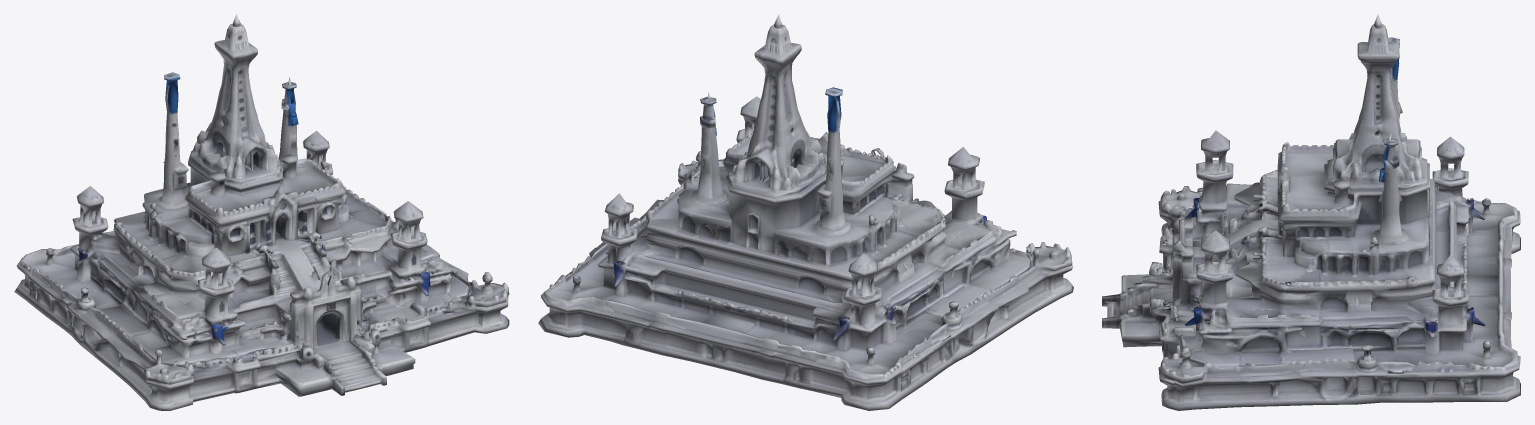
The model's file is citadel.glb.
3 views of the same model, side by side, from view 1: azimuth 30°, elevation 25°; view 2: azimuth 150°, elevation 25°; view 3: azimuth 270°, elevation 25° (orthographic). The views are drawn at different scales.
Visible parts, largest first — view 1: tripo_node_39ec2dd4-5cfa-4ec2-801e-8d99c4cdc907; view 2: tripo_node_39ec2dd4-5cfa-4ec2-801e-8d99c4cdc907; view 3: tripo_node_39ec2dd4-5cfa-4ec2-801e-8d99c4cdc907.
Boxes of the visible parts, x1,y1,x2,y2 form: tripo_node_39ec2dd4-5cfa-4ec2-801e-8d99c4cdc907: [14, 14, 509, 410]; tripo_node_39ec2dd4-5cfa-4ec2-801e-8d99c4cdc907: [538, 14, 1073, 410]; tripo_node_39ec2dd4-5cfa-4ec2-801e-8d99c4cdc907: [1102, 14, 1520, 410].
Size of the model in its own units: 0.9768 by 0.7244 by 0.908.
1 material, 1 textured.
